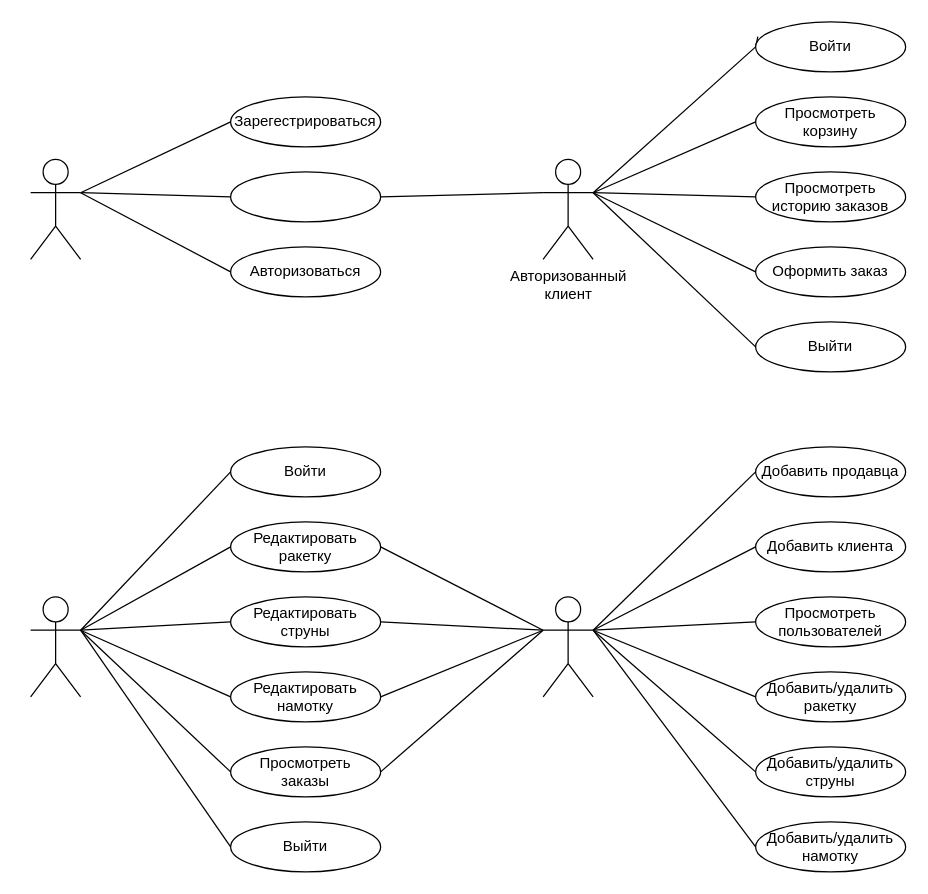
This 928x894 diagram has some shape labels left out. The shapes that lost their labels are listed below. From the top down, each one's centre as x and y in pixels, then its label:
At point (55, 208): "Гость".
At point (305, 196): "Просмотреть каталог".
At point (55, 646): "Продавец".
At point (567, 646): "Администратор".
